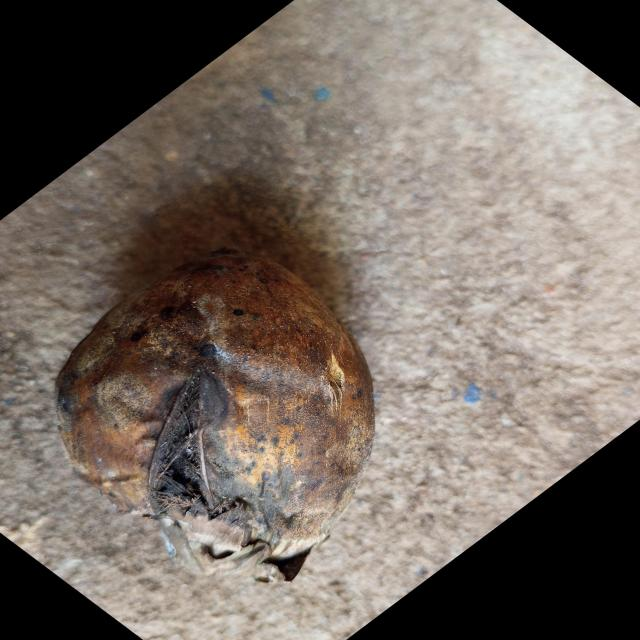damaged: (58, 253, 374, 574)
